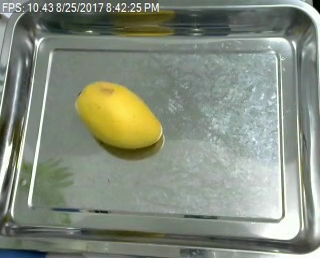Mango: (71, 73, 167, 156)
